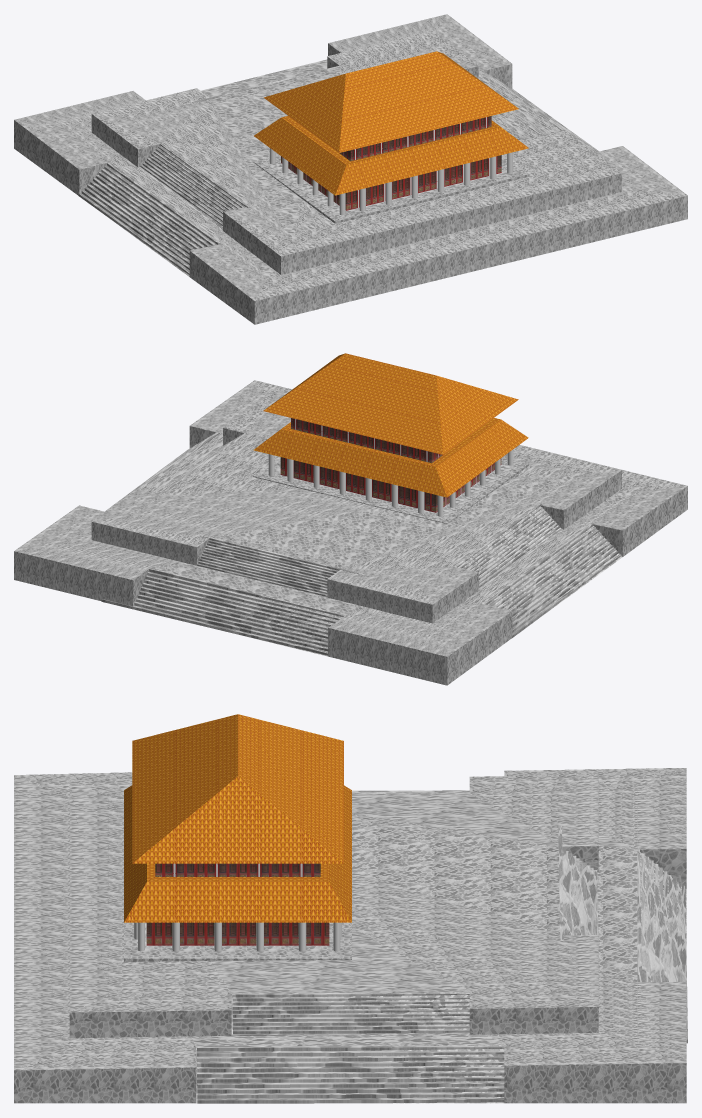
File: Stair_re_v01.fbx
The picture shows the model from 3 angles, top to bottom: view 1: azimuth 30°, elevation 25°; view 2: azimuth 150°, elevation 25°; view 3: azimuth 270°, elevation 25°; orthographic projection. The views are drawn at different scales.
Parts seen in each view (by area): view 1: SecondStair, Stair, Box005, Box003, StraightStair004, MainBuild, StraightStair005, Box006, Box004, StraightStair002; view 2: Stair, SecondStair, Box005, Box003, StraightStair006, StraightStair004, StraightStair007, MainBuild, Box006, StraightStair005, Box004, StraightStair002; view 3: Stair, SecondStair, Box005, StraightStair002, Box003, StraightStair003, StraightStair006, MainBuild, Box006, StraightStair007, Box004.
Part boxes in pixels (<box>): SecondStair: <box>14,14,687,324</box>; Stair: <box>91,30,621,274</box>; Box005: <box>263,51,518,152</box>; Box003: <box>254,116,528,195</box>; StraightStair004: <box>78,163,220,274</box>; MainBuild: <box>253,155,529,223</box>; StraightStair005: <box>140,144,249,229</box>; Box006: <box>281,155,501,210</box>; Box004: <box>339,116,491,161</box>; StraightStair002: <box>483,71,598,152</box>; Stair: <box>91,387,621,623</box>; SecondStair: <box>14,380,687,685</box>; Box005: <box>263,353,518,454</box>; Box003: <box>253,418,528,497</box>; StraightStair006: <box>101,568,344,655</box>; StraightStair004: <box>483,523,621,637</box>; StraightStair007: <box>197,535,371,596</box>; MainBuild: <box>253,457,528,523</box>; Box006: <box>280,457,501,512</box>; StraightStair005: <box>456,503,562,587</box>; Box004: <box>291,418,442,463</box>; StraightStair002: <box>105,432,219,511</box>; Stair: <box>69,774,598,1038</box>; SecondStair: <box>14,768,686,1103</box>; Box005: <box>132,714,343,863</box>; StraightStair002: <box>197,1045,504,1103</box>; Box003: <box>124,785,351,922</box>; StraightStair003: <box>232,993,469,1035</box>; StraightStair006: <box>637,849,687,1043</box>; MainBuild: <box>124,922,351,961</box>; Box006: <box>146,922,329,945</box>; StraightStair007: <box>558,825,598,941</box>; Box004: <box>155,863,320,876</box>.
Size of the model in its own units: 143 by 47.54 by 138.
